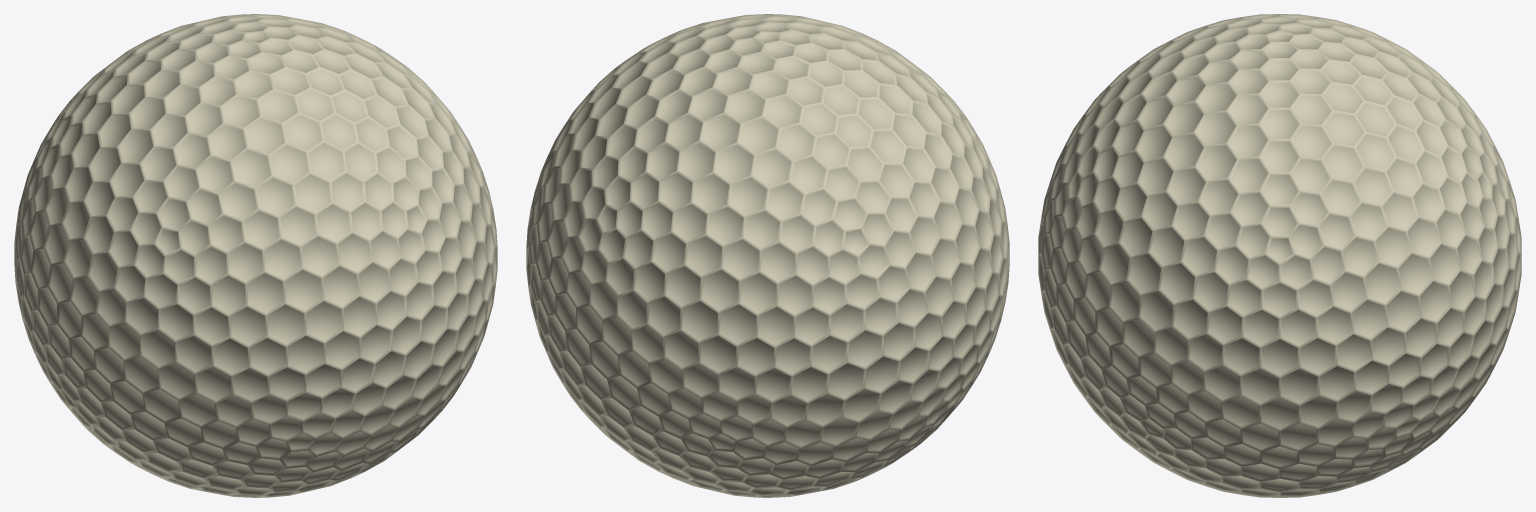
Rendered from WhiteGolfBall.glb.
3 renders of one model, left to right at view 1: azimuth 30°, elevation 25°; view 2: azimuth 150°, elevation 25°; view 3: azimuth 270°, elevation 25°, orthographic.
Visible parts, largest first — view 1: Icosphere; view 2: Icosphere; view 3: Icosphere.
Boxes of the visible parts, x1=… form: Icosphere: x1=14, y1=14, x2=497, y2=497; Icosphere: x1=526, y1=14, x2=1009, y2=497; Icosphere: x1=1038, y1=14, x2=1521, y2=497.
Bounding box in the file's own units: 1.98 × 1.99 × 1.98.
